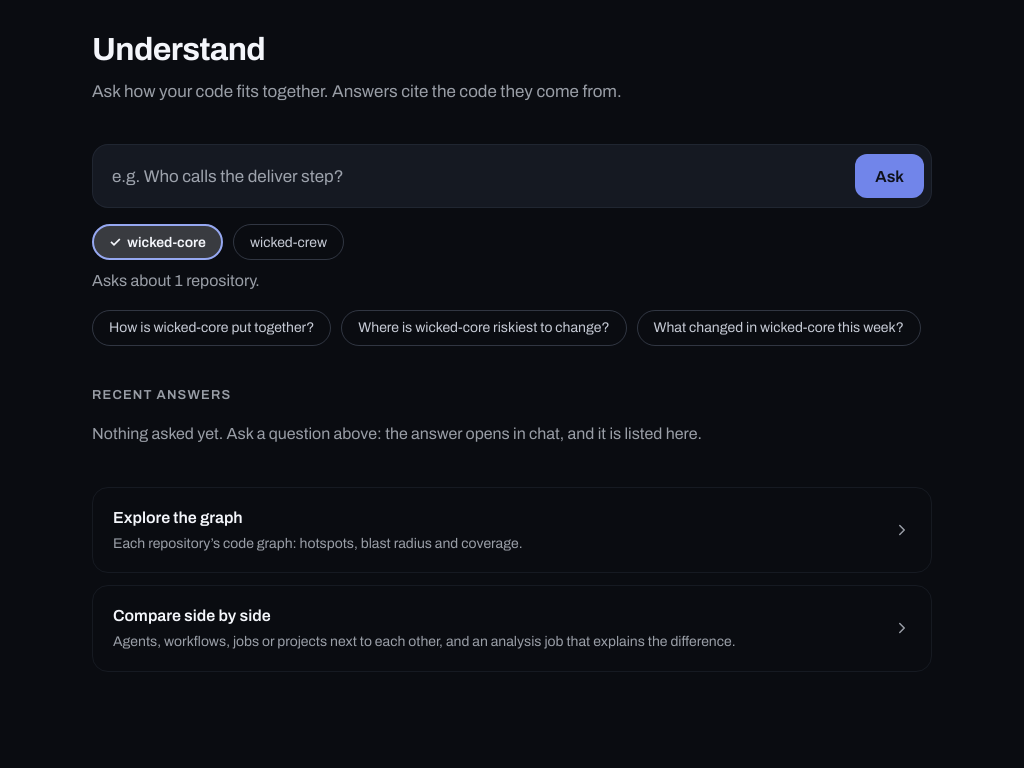
Test case: the Understand page › a suggestion fills the box (nothing sent); Ask sends the operator’s question into a new chat and lists it
Click the button with test id "understand-suggest" that starts with "How is wicked-core put together?" at {"x": 212, "y": 328}, box [92,310,331,346]
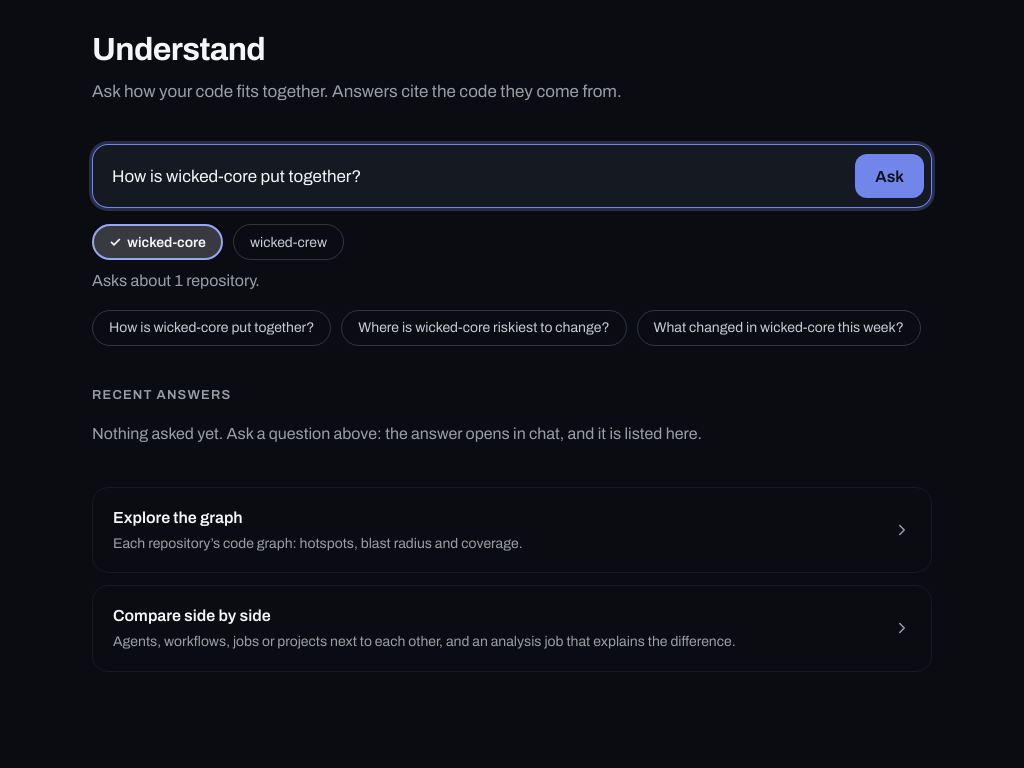
Expected: the field with test id "understand-ask-input" holds "How is wicked-core put together?", [112,152,845,200]
Submit the form with test id "understand-ask", box [92,144,932,208]
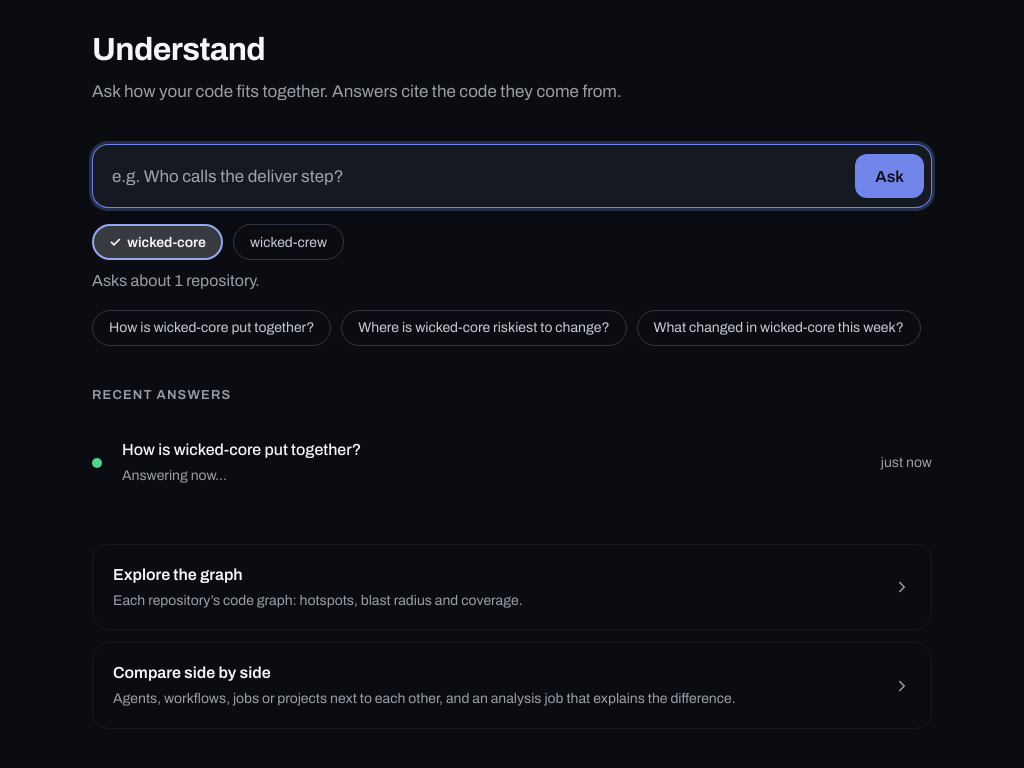
Expected: the field with test id "understand-ask-input" is empty, [112,152,845,200]
Expected: the link with test id "understand-answer" shows "How is wicked-core put together?", [92,441,932,483]
Expected: the text with test id "understand-answer-sub" reads "Answering now…", [122,468,227,483]
